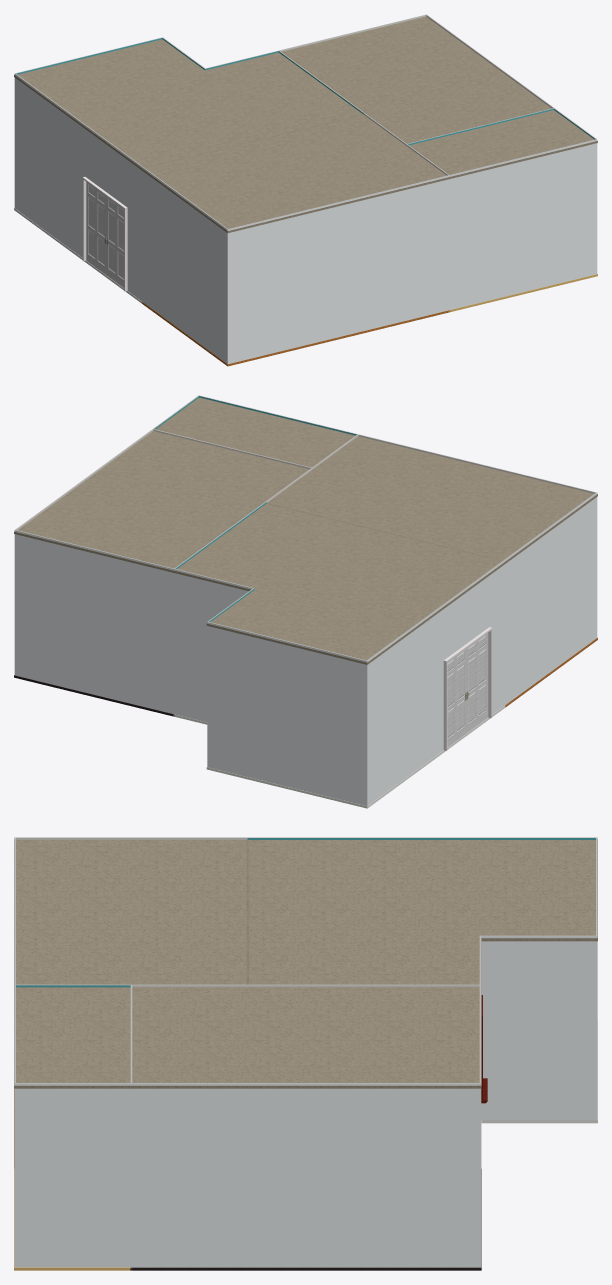
File: ProcTHOR-Train-182.glb
3 renders of one model, top to bottom at view 1: azimuth 30°, elevation 25°; view 2: azimuth 150°, elevation 25°; view 3: azimuth 270°, elevation 25°, orthographic. The views are drawn at different scales.
Parts seen in each view (by area): view 1: WallInside#wall|exterior|3.84|9.61|9.61|9.61, Ceiling#room|6|c, WallInside#wall|exterior|0.00|9.61|3.84|9.61, Ceiling#room|7|c, Ceiling#room|4|c, WallInside#wall|exterior|9.61|0.00|9.61|5.76, WallInside#wall|exterior|9.61|5.76|9.61|9.61, Ceiling#room|5|c, Doorway_Door_2b, Doorway_Door_2a, Doorway_Double_2, Floor#room|7|f; view 2: Ceiling#room|6|c, WallInside#wall|exterior|5.76|0.00|9.61|0.00, WallInside#wall|exterior|0.00|1.92|3.84|1.92, Ceiling#room|7|c, Ceiling#room|4|c, WallInside#wall|exterior|9.61|0.00|9.61|5.76, WallInside#wall|exterior|9.61|5.76|9.61|9.61, Ceiling#room|5|c, WallInside#wall|exterior|3.84|1.92|5.76|1.92, Doorway_Door_2a, Doorway_Door_2b, Doorway_Double_2 (+2 smaller); view 3: WallInside#wall|exterior|0.00|1.92|0.00|7.69, Ceiling#room|6|c, Ceiling#room|4|c, Ceiling#room|7|c, WallInside#wall|exterior|0.00|7.69|0.00|9.61, WallInside#wall|exterior|5.76|0.00|5.76|1.92, Ceiling#room|5|c, Floor#room|4|f, WallInside#wall|6|9.61|0.00|9.61|5.76, WallInside#wall|7|9.61|5.76|9.61|9.61, WallInside#wall|4|3.84|1.92|3.84|5.76, Floor#room|6|f (+1 smaller).
Boxes of the visible parts, x1=… form: WallInside#wall|exterior|3.84|9.61|9.61|9.61: x1=228, y1=175, x2=449, y2=364; Ceiling#room|6|c: x1=14, y1=39, x2=363, y2=170; WallInside#wall|exterior|0.00|9.61|3.84|9.61: x1=449, y1=139, x2=597, y2=310; Ceiling#room|7|c: x1=141, y1=115, x2=450, y2=232; Ceiling#room|4|c: x1=279, y1=16, x2=551, y2=143; WallInside#wall|exterior|9.61|0.00|9.61|5.76: x1=14, y1=73, x2=142, y2=301; WallInside#wall|exterior|9.61|5.76|9.61|9.61: x1=142, y1=167, x2=227, y2=363; Ceiling#room|5|c: x1=409, y1=110, x2=597, y2=179; Doorway_Door_2b: x1=86, y1=182, x2=106, y2=275; Doorway_Door_2a: x1=106, y1=197, x2=123, y2=287; Doorway_Double_2: x1=82, y1=177, x2=127, y2=291; Floor#room|7|f: x1=141, y1=302, x2=450, y2=366; Ceiling#room|6|c: x1=174, y1=503, x2=505, y2=664; WallInside#wall|exterior|5.76|0.00|9.61|0.00: x1=207, y1=622, x2=367, y2=805; WallInside#wall|exterior|0.00|1.92|3.84|1.92: x1=14, y1=530, x2=174, y2=713; Ceiling#room|7|c: x1=267, y1=436, x2=597, y2=563; Ceiling#room|4|c: x1=14, y1=431, x2=310, y2=572; WallInside#wall|exterior|9.61|0.00|9.61|5.76: x1=367, y1=560, x2=505, y2=805; WallInside#wall|exterior|9.61|5.76|9.61|9.61: x1=505, y1=493, x2=597, y2=704; Ceiling#room|5|c: x1=155, y1=397, x2=357, y2=467; WallInside#wall|exterior|3.84|1.92|5.76|1.92: x1=173, y1=569, x2=253, y2=722; Doorway_Door_2a: x1=466, y1=633, x2=488, y2=732; Doorway_Door_2b: x1=447, y1=648, x2=466, y2=746; Doorway_Double_2: x1=443, y1=627, x2=492, y2=750; WallInside#wall|exterior|0.00|1.92|0.00|7.69: x1=131, y1=1083, x2=480, y2=1267; Ceiling#room|6|c: x1=246, y1=839, x2=597, y2=987; Ceiling#room|4|c: x1=130, y1=987, x2=481, y2=1088; Ceiling#room|7|c: x1=14, y1=839, x2=248, y2=987; WallInside#wall|exterior|0.00|7.69|0.00|9.61: x1=14, y1=1083, x2=131, y2=1267; WallInside#wall|exterior|5.76|0.00|5.76|1.92: x1=481, y1=936, x2=597, y2=1120; Ceiling#room|5|c: x1=14, y1=987, x2=131, y2=1088; Floor#room|4|f: x1=130, y1=1169, x2=481, y2=1270; WallInside#wall|6|9.61|0.00|9.61|5.76: x1=247, y1=837, x2=596, y2=839; WallInside#wall|7|9.61|5.76|9.61|9.61: x1=15, y1=837, x2=247, y2=839; WallInside#wall|4|3.84|1.92|3.84|5.76: x1=248, y1=985, x2=479, y2=987; Floor#room|6|f: x1=481, y1=1021, x2=597, y2=1168.
Size of the model in its own units: 9.71 by 3.4 by 9.65.
Materials: 191 (72 with a texture image).
